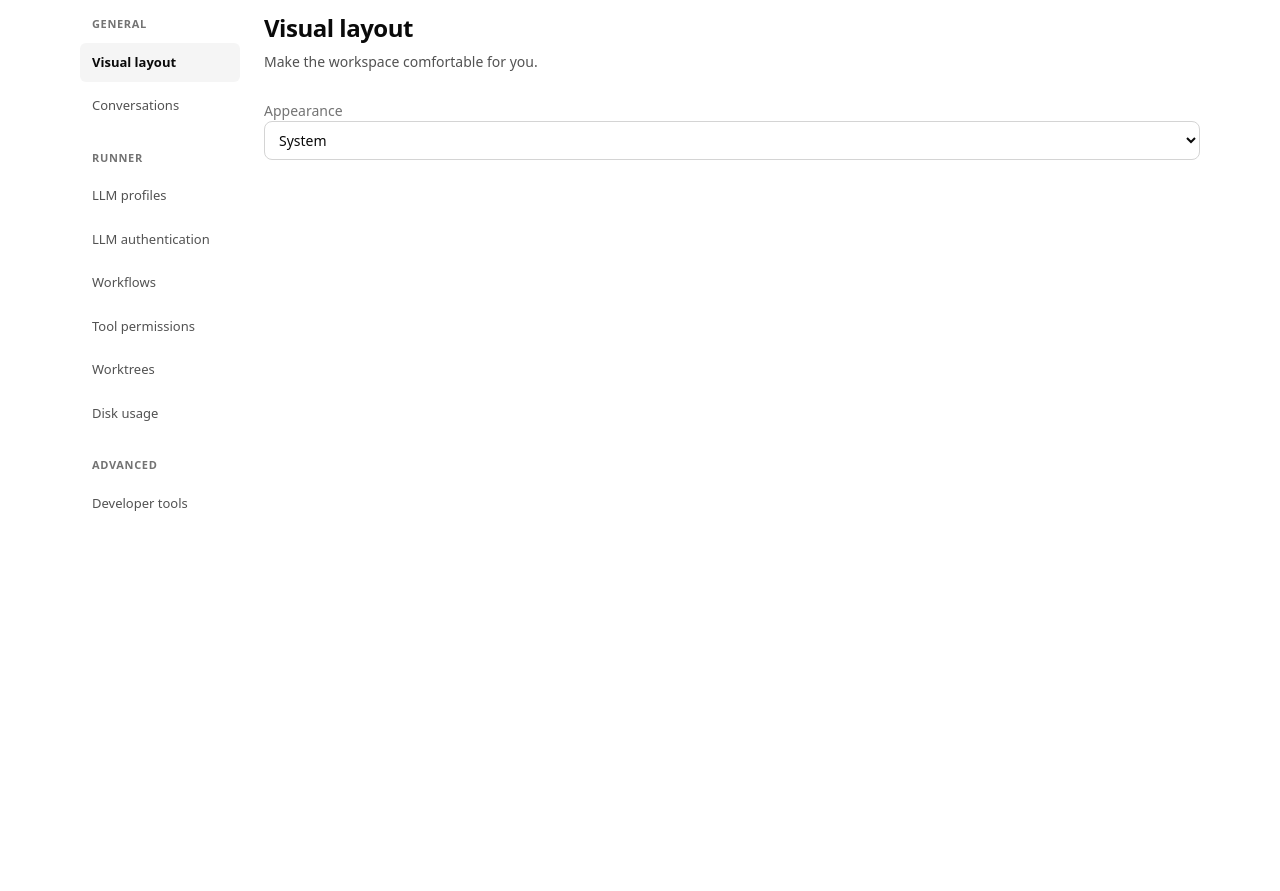
Test: authentication presents controls and feedback without help blocks
This screenshot has width=1280, height=891.
Click the button "LLM authentication". click: x=160, y=239
box: [80,220,240,259]
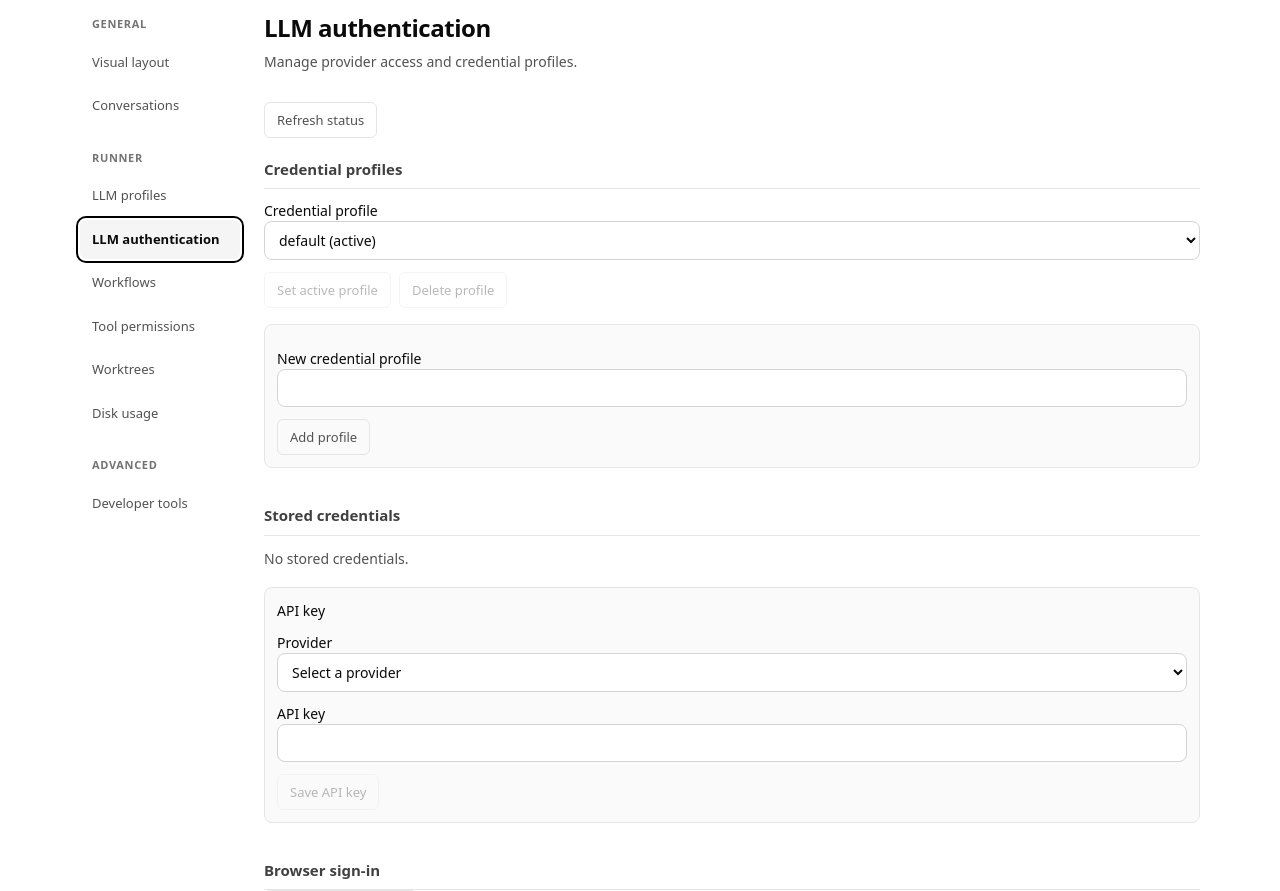
expect the dropdown labelled "Credential profile" shows "default (active)": met, box [264,221,1200,260]
expect the button "Set active profile" is shown: met, box [264,272,391,308]
expect the button "Save API key" is shown: met, box [277,774,379,810]
